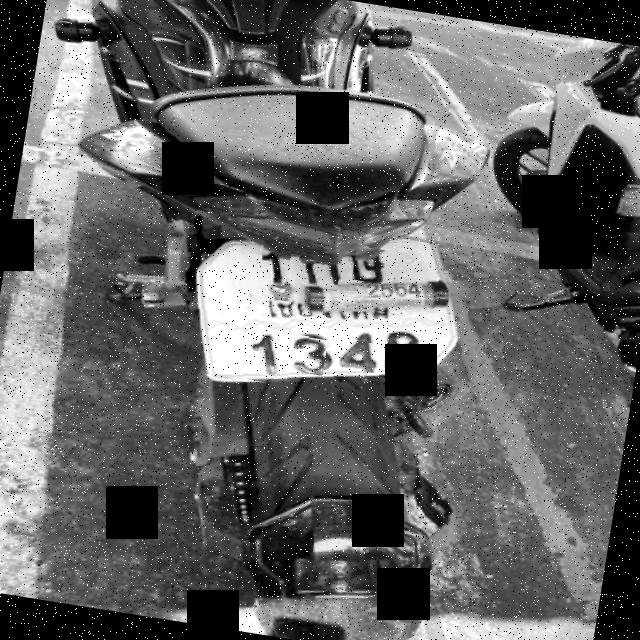letters: (294, 242, 344, 291), (242, 336, 282, 378), (258, 242, 292, 290), (338, 338, 383, 374), (290, 334, 328, 376), (352, 245, 390, 285), (383, 342, 421, 375)
license-plate: (194, 240, 460, 376)
province: (271, 295, 403, 331)
